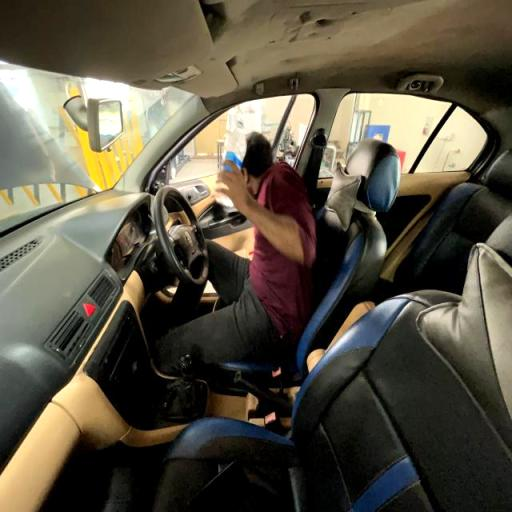Drinking: (213, 120, 328, 325)
